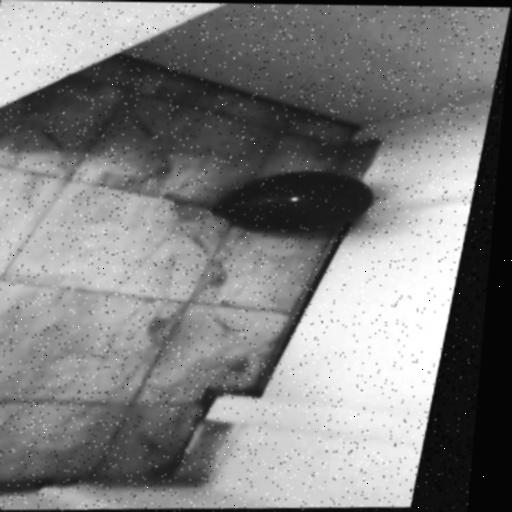balloon: (197, 166, 393, 242)
